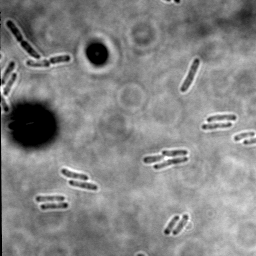Dividing: (5, 18, 42, 61), (25, 54, 72, 68), (153, 156, 189, 171), (201, 120, 234, 132), (207, 114, 238, 124)
Rod: (179, 56, 202, 94), (60, 167, 90, 182), (68, 179, 100, 192), (162, 214, 180, 237), (171, 213, 189, 236), (1, 60, 16, 86), (4, 72, 18, 97), (35, 194, 66, 204), (40, 201, 70, 211), (233, 131, 255, 143), (160, 149, 189, 157), (143, 155, 166, 165)
